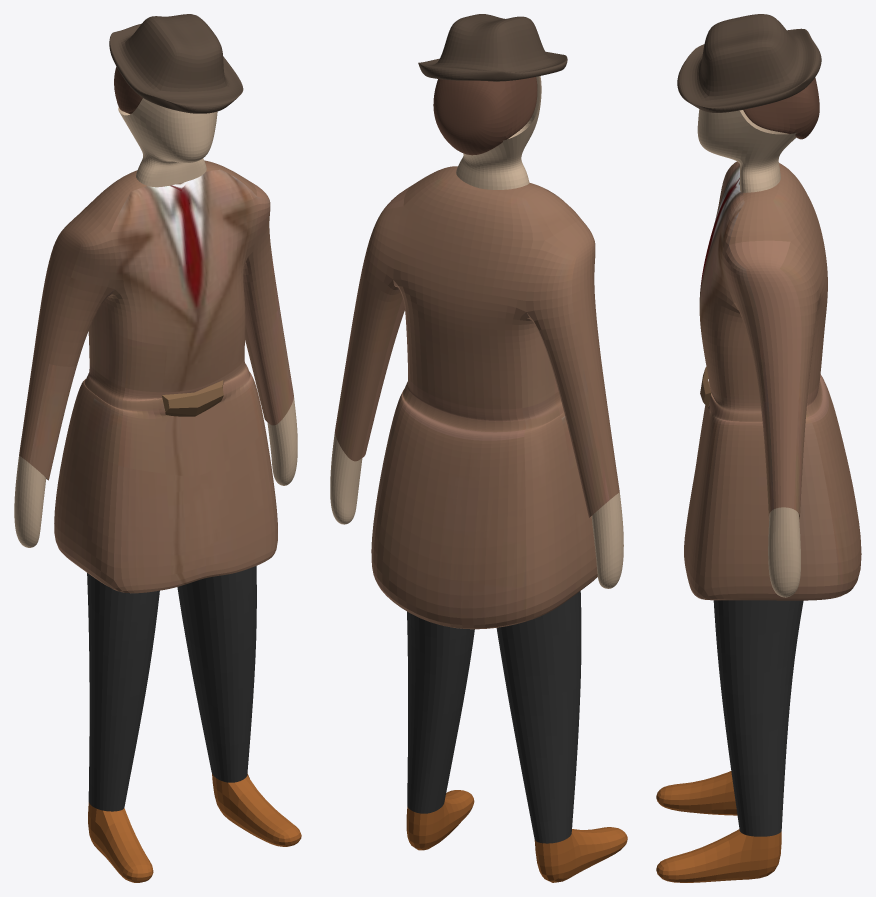
Rendered from Ace_Detective.fbx.
3 views of the same model, side by side, from view 1: azimuth 30°, elevation 25°; view 2: azimuth 150°, elevation 25°; view 3: azimuth 270°, elevation 25° (orthographic). The views are drawn at different scales.
Parts seen in each view (by area): view 1: coat, pants, man, hat, shoes, belt, hair; view 2: coat, pants, man, hat, hair, shoes; view 3: coat, pants, hat, man, shoes, hair.
Boxes of the visible parts, x1,y1,x2,y2 form: coat: (19, 160, 293, 593); pants: (87, 566, 256, 811); man: (14, 98, 297, 547); hat: (109, 14, 243, 113); shoes: (88, 774, 301, 882); belt: (162, 380, 223, 416); hair: (114, 67, 142, 113); coat: (335, 166, 619, 629); pants: (407, 591, 581, 843); man: (330, 76, 623, 588); hat: (418, 14, 567, 81); hair: (433, 77, 537, 155); shoes: (406, 790, 627, 882); coat: (684, 161, 861, 600); pants: (708, 406, 803, 836); hat: (677, 14, 821, 112); man: (697, 109, 800, 597); shoes: (656, 771, 781, 882); hair: (743, 78, 819, 139).
Bounding box in the file's own units: 356 × 1000 × 225.
